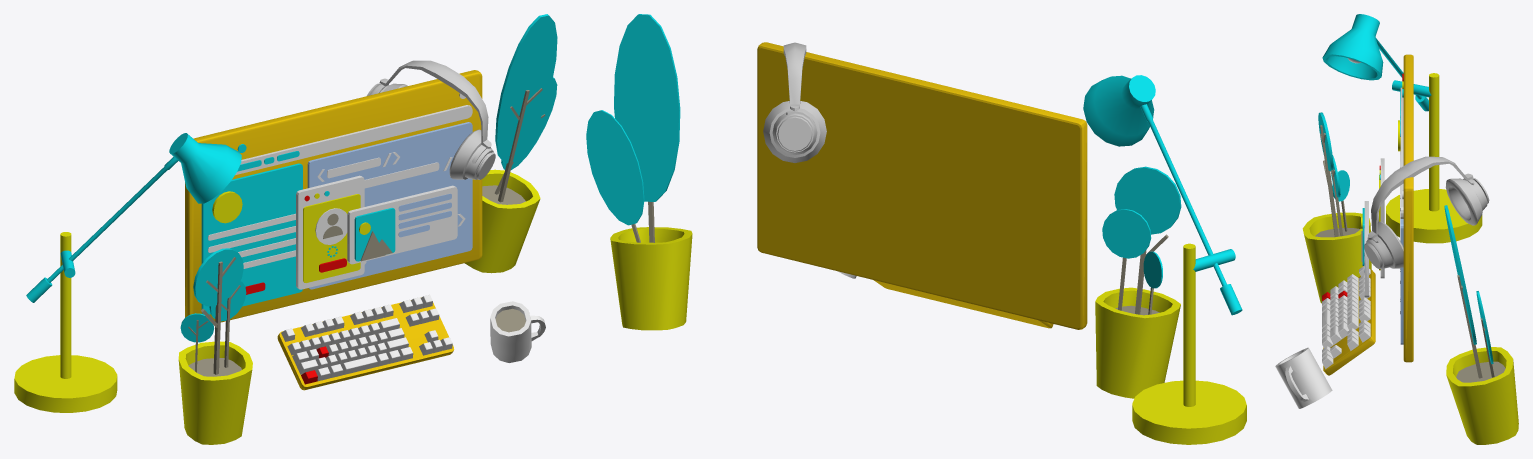
File: mainScene.glb
3 renders of one model, left to right at view 1: azimuth 30°, elevation 25°; view 2: azimuth 150°, elevation 25°; view 3: azimuth 270°, elevation 25°, orthographic. The views are drawn at different scales.
Parts seen in each view (by area): view 1: Cube (×3), Cube.1 (×3), Cylinder.4 (×6), Cube.3, Cube.2 (×3), Cylinder, Cube.7, base, Cylinder.3, Cube.6, Cube.5, mug1 (+8 smaller); view 2: Cube (×2), Cylinder.4 (×4), Cube.1 (×2), Cylinder, Cylinder.3, Cylinder.1, Cylinder.2, base; view 3: Cube.1 (×3), Cube (×3), Cylinder, Cylinder.1 (×2), Cylinder.3, mug1, Cylinder.4 (×4), base, Cube.2 (×2), fff, Cube.7, Cube.3 (+2 smaller).
Boxes of the visible parts, x1,y1,x2,y2 form: Cube (×3): (185, 60, 491, 376); Cube.1 (×3): (178, 105, 540, 444); Cylinder.4 (×6): (180, 14, 557, 342); Cube.3: (307, 122, 472, 289); Cube.2 (×3): (201, 90, 529, 374); Cylinder: (14, 232, 117, 412); Cube.7: (347, 185, 457, 264); base: (277, 302, 454, 390); Cylinder.3: (169, 133, 241, 203); Cube.6: (303, 194, 360, 282); Cube.5: (296, 175, 364, 289); mug1: (490, 301, 545, 362); Cube (×2): (757, 42, 1087, 329); Cylinder.4 (×4): (586, 14, 1181, 258); Cube.1 (×2): (610, 227, 1180, 398); Cylinder: (1132, 243, 1246, 444); Cylinder.3: (1083, 75, 1155, 146); Cylinder.1: (763, 101, 826, 162); Cylinder.2: (1140, 104, 1242, 315); base: (873, 280, 1053, 328); Cube.1 (×3): (1302, 87, 1518, 444); Cube (×3): (1315, 54, 1473, 362); Cylinder: (1386, 73, 1482, 243); Cylinder.1 (×2): (1364, 80, 1489, 268); Cylinder.3: (1322, 14, 1383, 80); mug1: (1275, 347, 1332, 408); Cylinder.4 (×4): (1318, 112, 1493, 364); base: (1323, 269, 1375, 375); Cube.2 (×2): (1320, 125, 1482, 378); fff: (1456, 361, 1505, 382); Cube.7: (1364, 201, 1368, 297); Cube.3: (1400, 219, 1403, 344).
Size of the model in its own units: 6.27 by 3.15 by 2.51.
